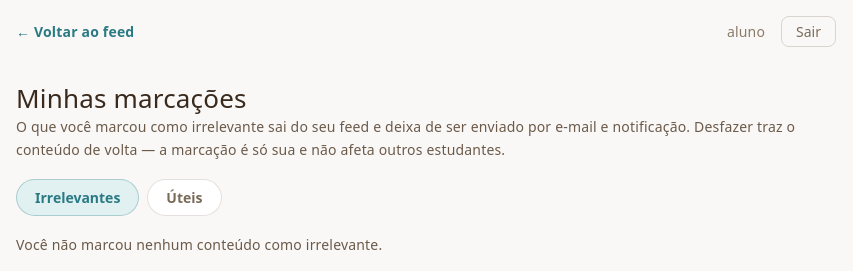
Marcações — listagem › troca para os úteis ao clicar na aba
Expected: the text "Você não marcou nenhum conteúdo como irrelevante." is shown, x1=16 y1=235 x2=382 y2=254
Click the tab "Úteis".
click(184, 198)  # box x1=147 y1=179 x2=222 y2=216
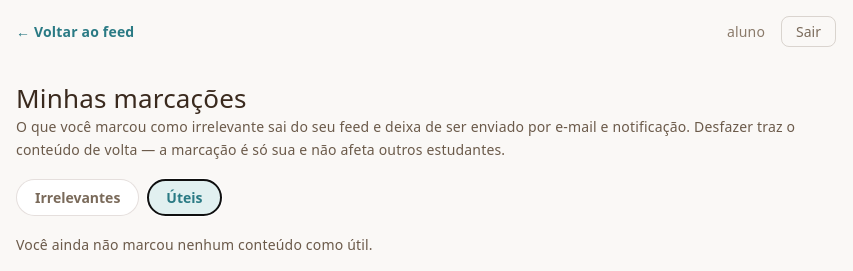
Expected: the text "Você ainda não marcou nenhum conteúdo como útil." is shown, x1=16 y1=235 x2=373 y2=254
